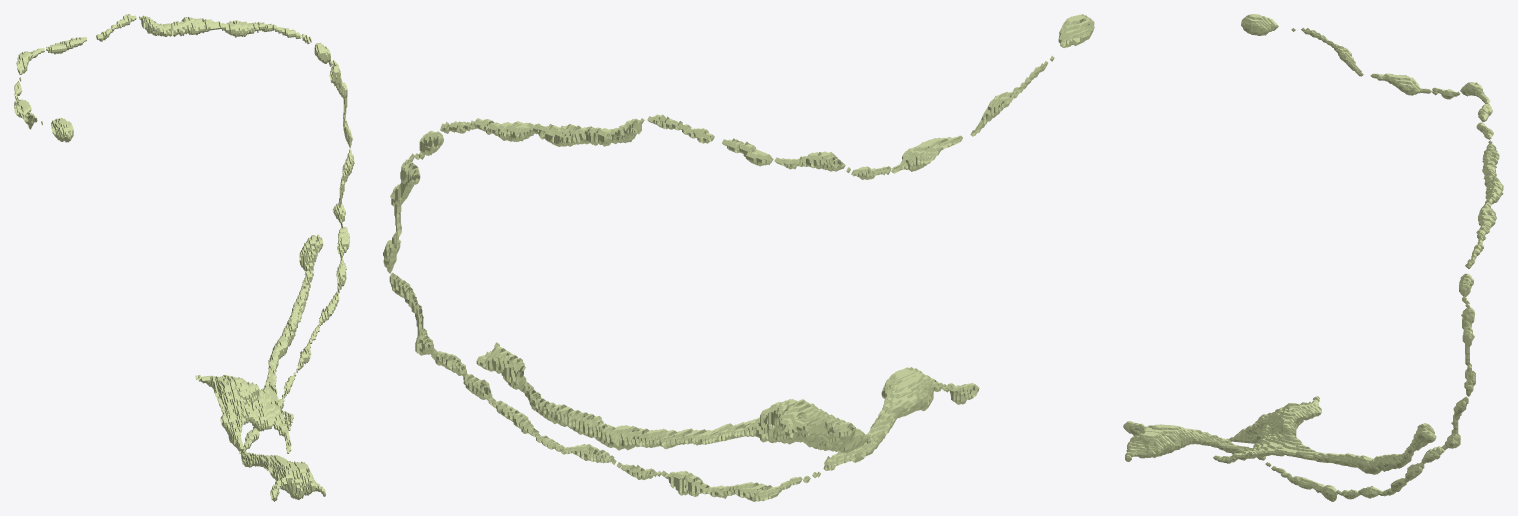
File: SVV_RIVL.gltf
3 views of the same model, side by side, from view 1: azimuth 30°, elevation 25°; view 2: azimuth 150°, elevation 25°; view 3: azimuth 270°, elevation 25° (orthographic). The views are drawn at different scales.
Parts seen in each view (by area): view 1: RIVL; view 2: RIVL; view 3: RIVL.
Part boxes in pixels (left/top/right/bottom): RIVL: left=14, top=14, right=354, bottom=501; RIVL: left=383, top=14, right=1094, bottom=501; RIVL: left=1123, top=14, right=1503, bottom=501.
Bounding box in the file's own units: 128243 × 116716 × 108008.
